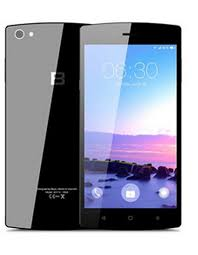bphone: (76, 18, 185, 233), (2, 19, 82, 231)
